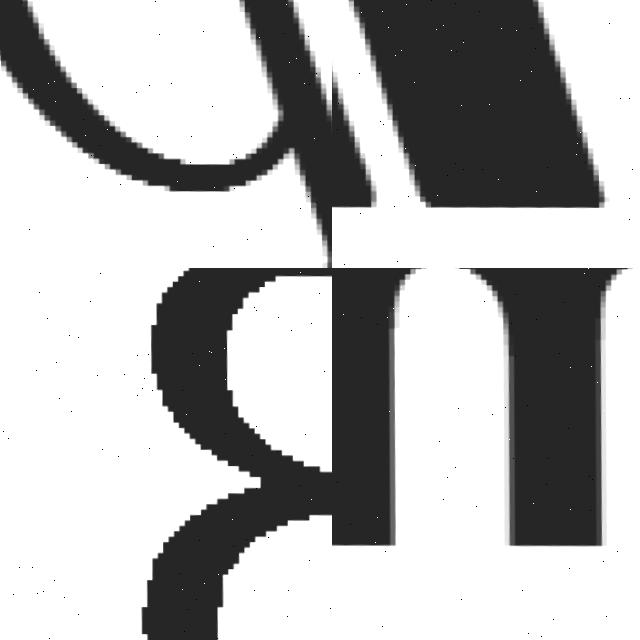3: (121, 268, 332, 640)
M: (332, 268, 640, 565)
N: (332, 0, 627, 226)
